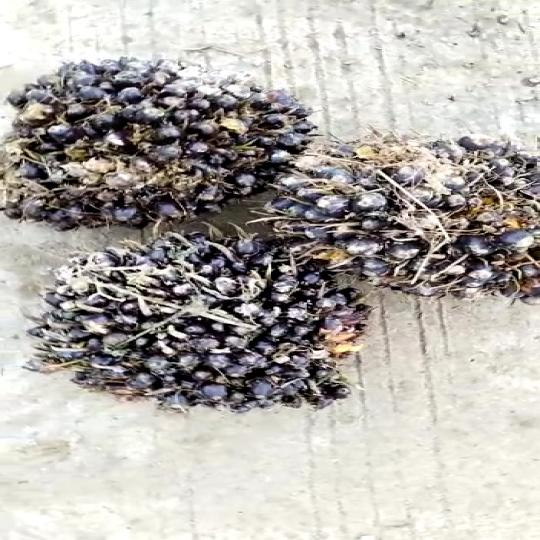mentah: (28, 223, 370, 416), (1, 41, 314, 236), (260, 132, 540, 311)
